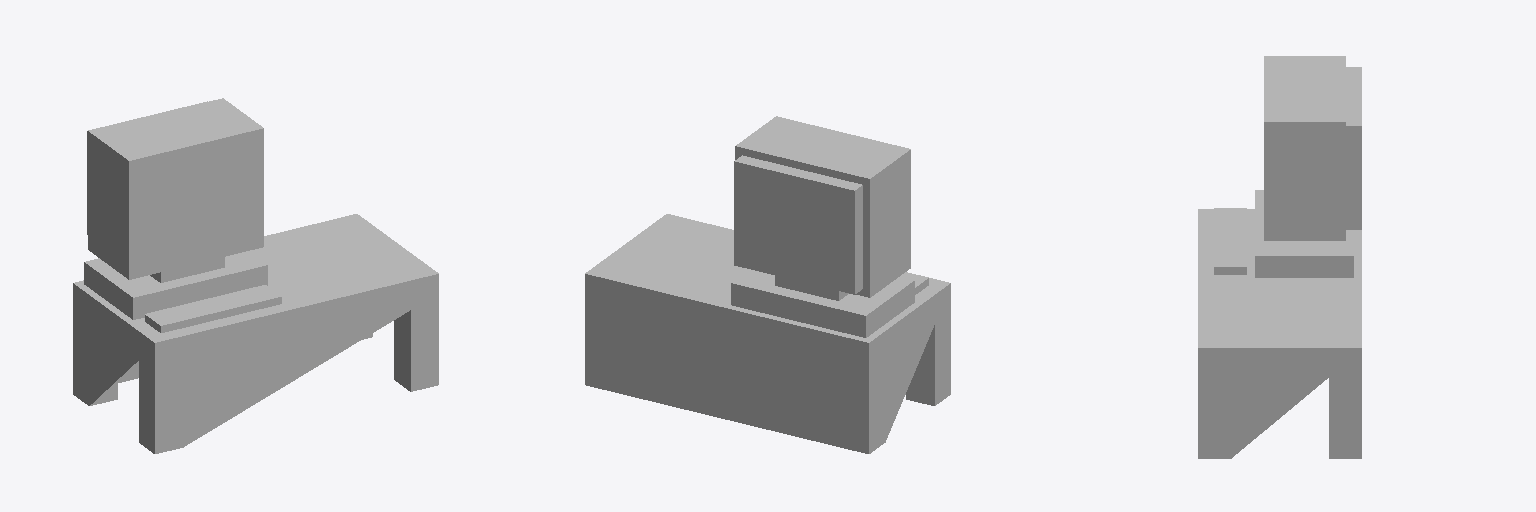
Rendered from PcANdTischHighlight.obj.
The picture shows the model from 3 angles: view 1: azimuth 30°, elevation 25°; view 2: azimuth 150°, elevation 25°; view 3: azimuth 270°, elevation 25°; orthographic projection.
Visible parts, largest first — view 1: PCAndTischhHighlight_PCAndTischhHighlight.004; view 2: PCAndTischhHighlight_PCAndTischhHighlight.004; view 3: PCAndTischhHighlight_PCAndTischhHighlight.004.
Boxes of the visible parts, x1,y1,x2,y2 form: PCAndTischhHighlight_PCAndTischhHighlight.004: [73, 98, 438, 453]; PCAndTischhHighlight_PCAndTischhHighlight.004: [585, 116, 950, 453]; PCAndTischhHighlight_PCAndTischhHighlight.004: [1198, 56, 1361, 458].
Bounding box in the file's own units: 2.5 × 2.25 × 1.25.